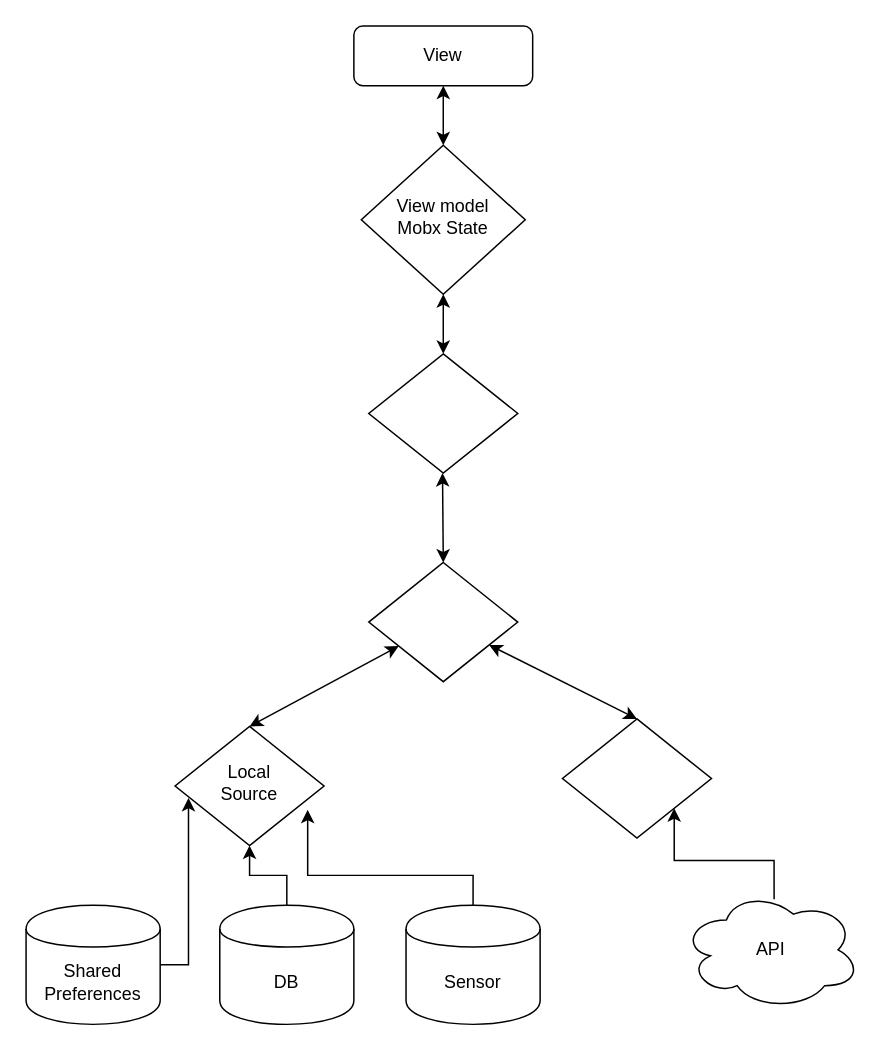
Some shapes in this 887 by 1050 pixel diagram are drawn without their labels. Each missing label, with the centre of its shape:
Controller: pixel 442 412
Remote Source: pixel 636 777
Repository: pixel 442 621
